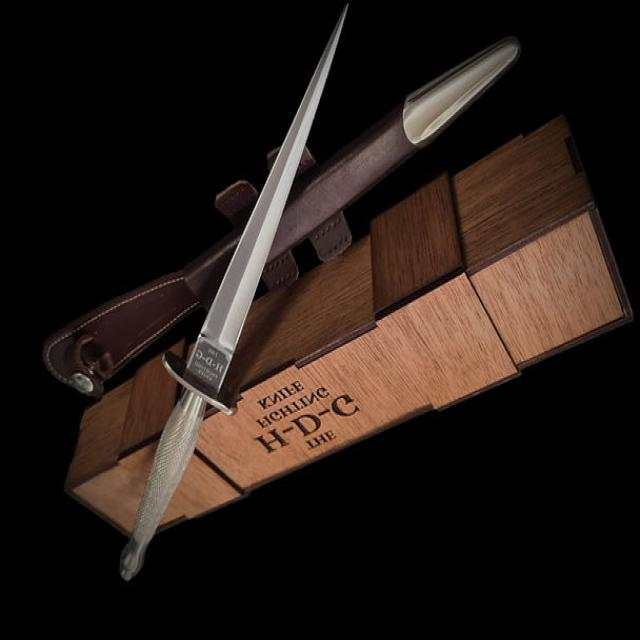Gun: (114, 0, 385, 594)
